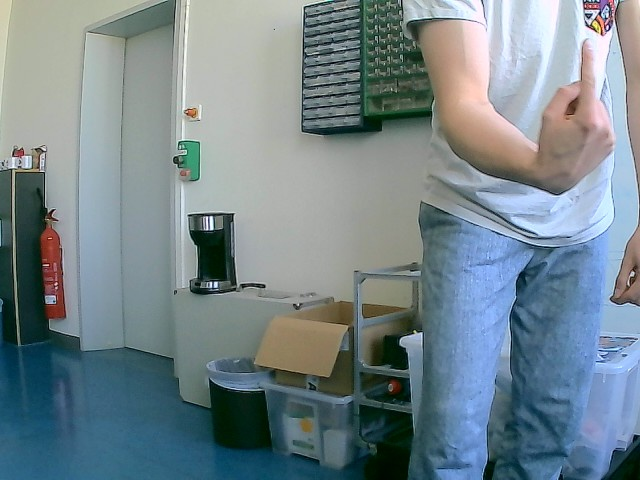up: (534, 28, 616, 195)
